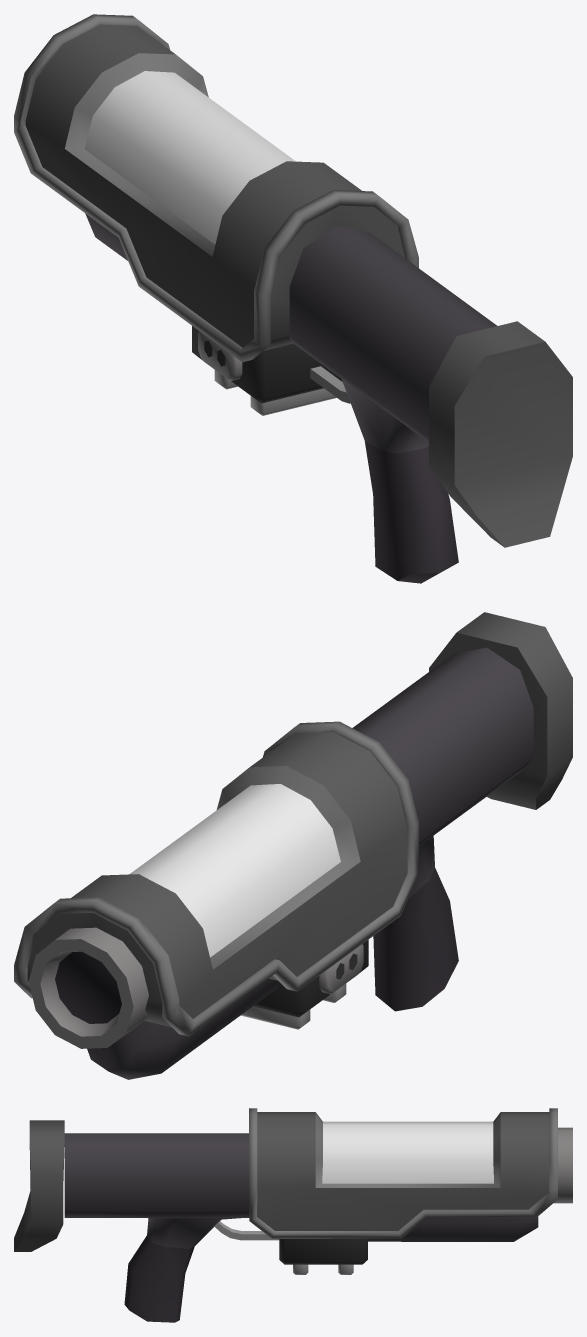
The model's file is LaserCannon.fbx.
The picture shows the model from 3 angles, top to bottom: view 1: azimuth 30°, elevation 25°; view 2: azimuth 150°, elevation 25°; view 3: azimuth 270°, elevation 25°; orthographic projection. The views are drawn at different scales.
Visible parts, largest first — view 1: LaserCannon; view 2: LaserCannon; view 3: LaserCannon.
Part boxes in pixels (<box>): LaserCannon: <box>14,14,572,583</box>; LaserCannon: <box>14,612,572,1079</box>; LaserCannon: <box>14,1108,572,1322</box>.
Size of the model in its own units: 0.1849 by 0.3681 by 0.9015.
